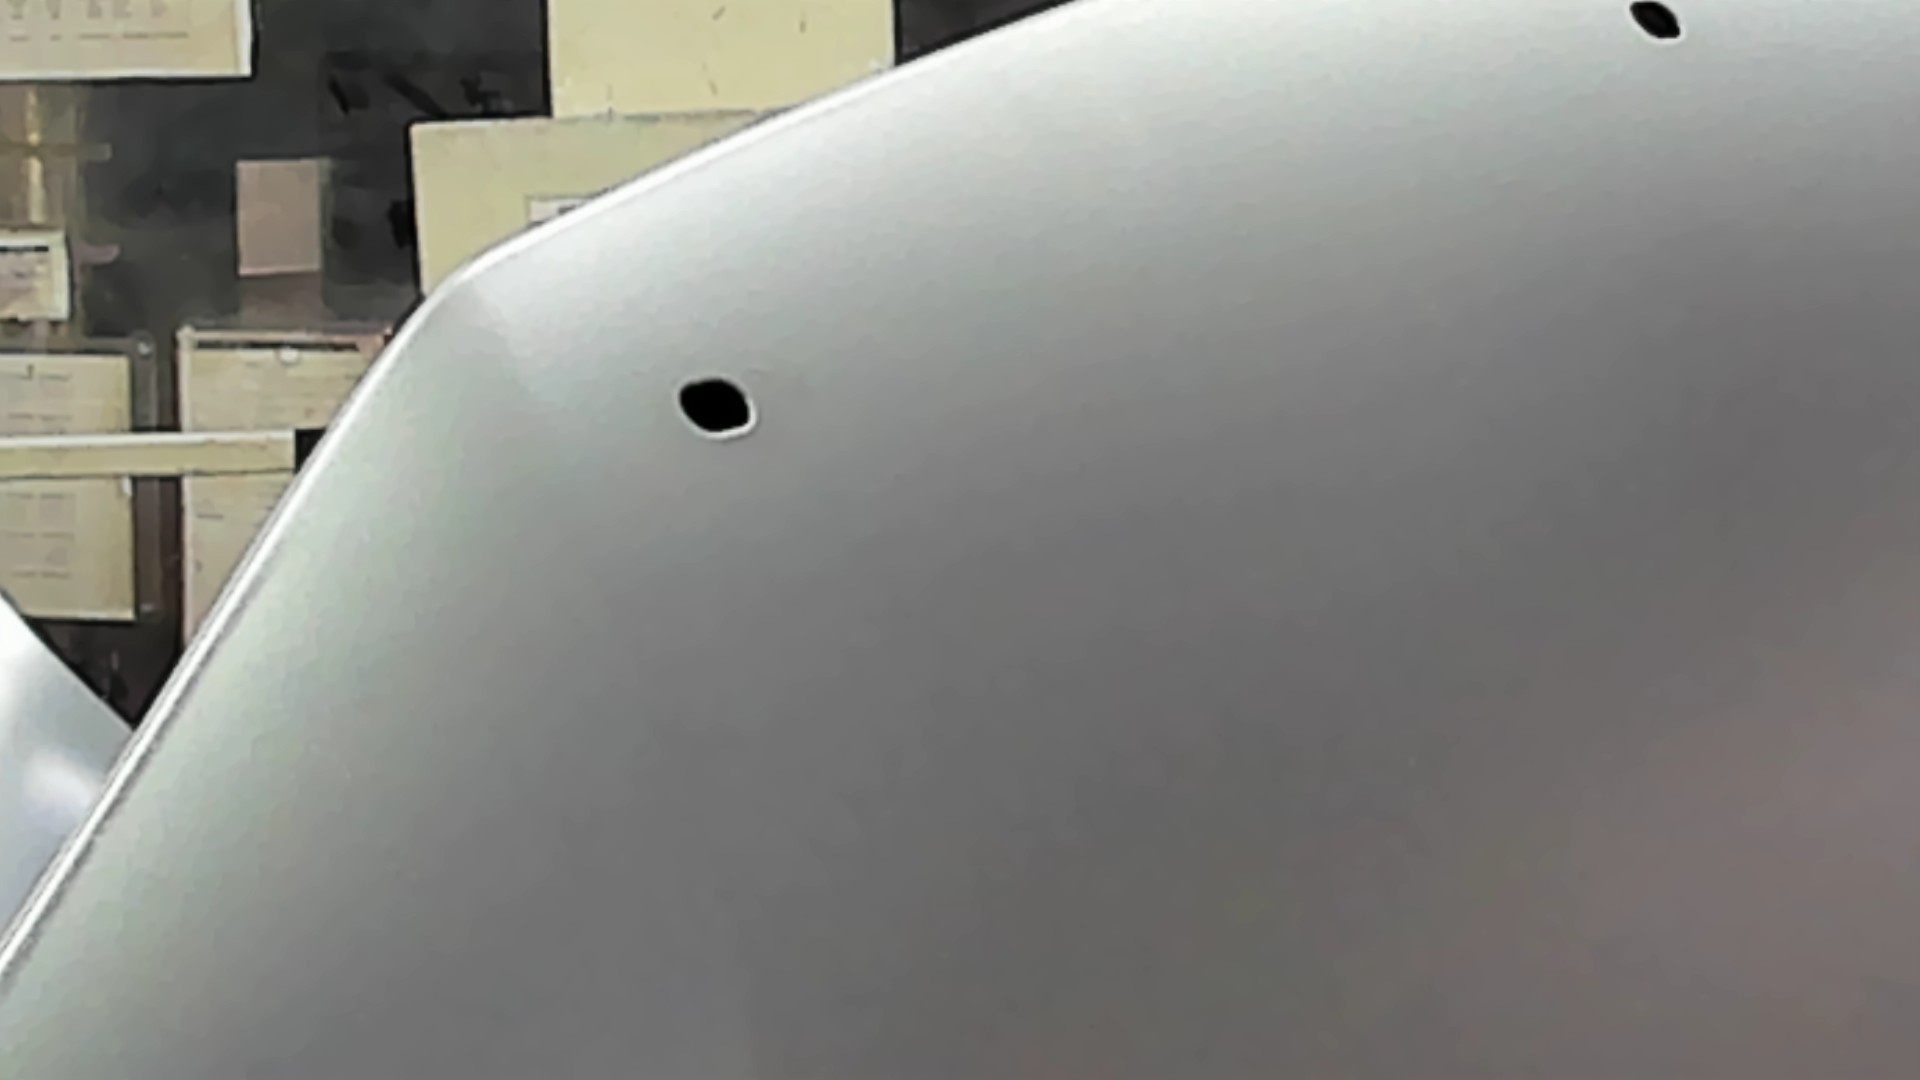amorfo: (671, 371, 764, 444), (1625, 1, 1693, 46)
capo: (843, 119, 1920, 1080)
